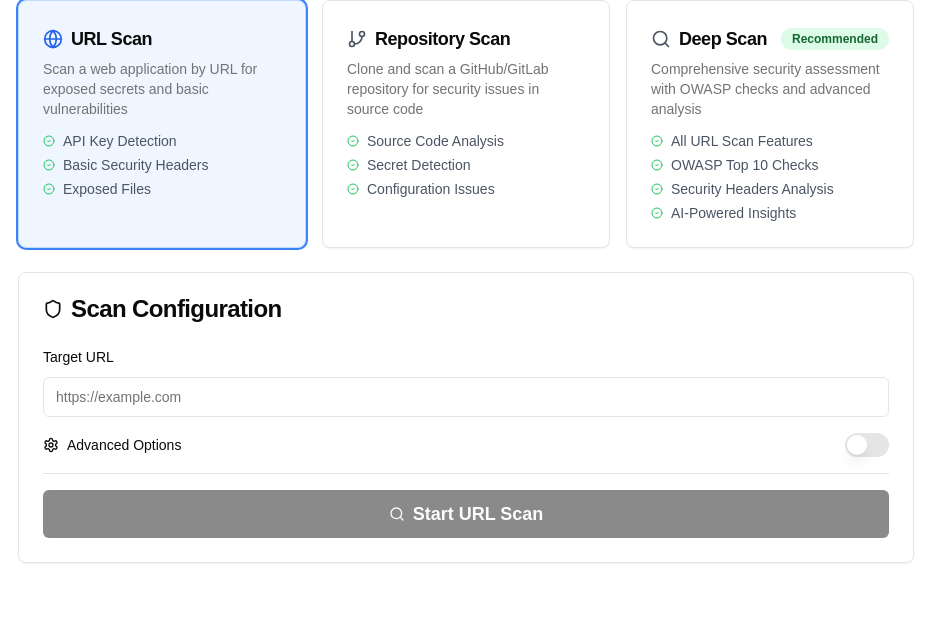
ScanTypeSelector › validates repository URL correctly
The image size is (931, 636).
Later steps or results of the test are not shown.
# Switch to repository scan
Click the text "Repository Scan" at coordinates (443, 39), box 375,25 -> 510,53
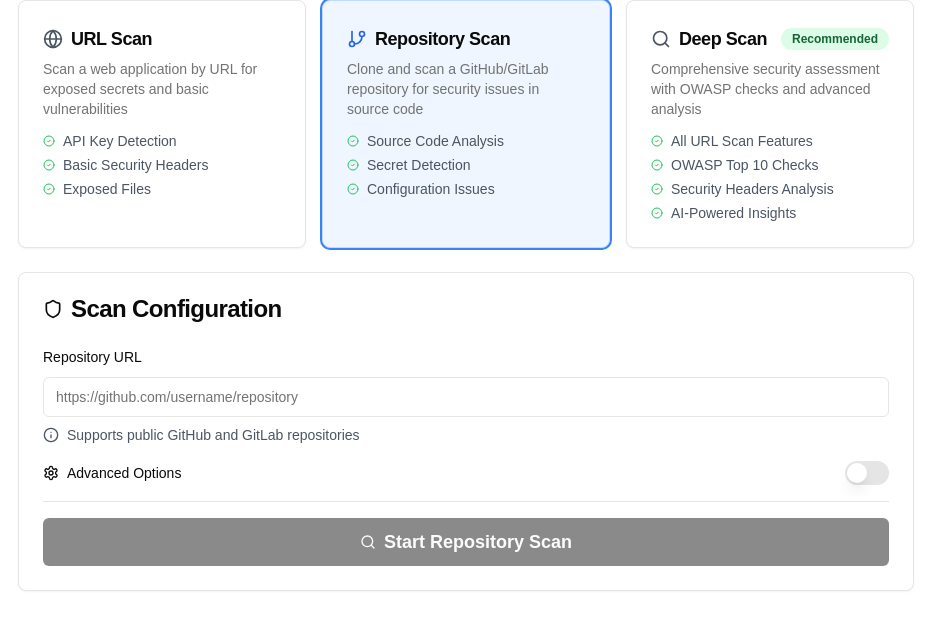
# Test invalid repository URL
Type "https://example.com/repo" into the field labelled "Repository URL" at coordinates (466, 397), box 43,377 -> 889,417
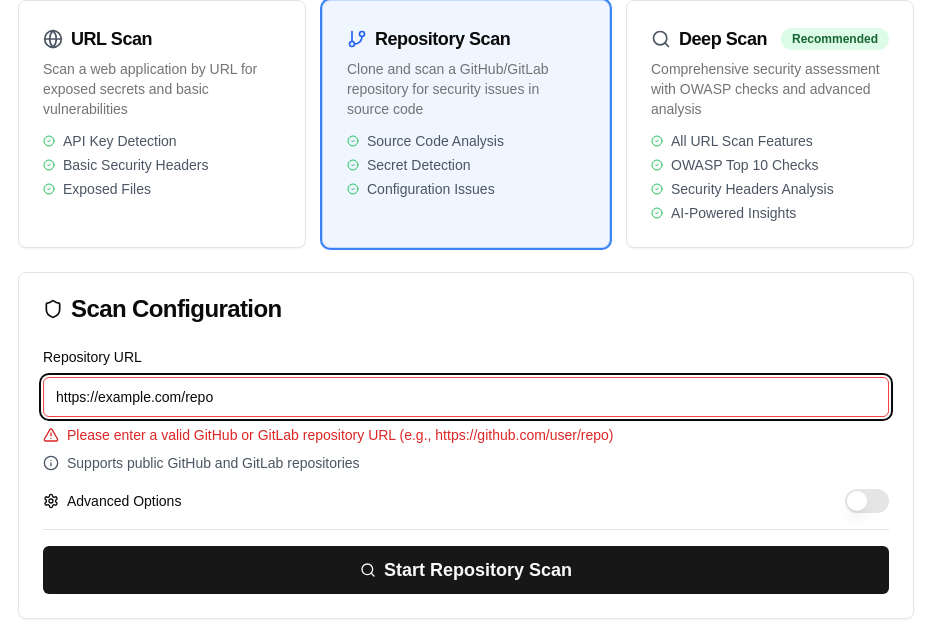
Result: the text "Please enter a valid GitHub or GitLab repository URL" is shown at 67,427 -> 614,443
